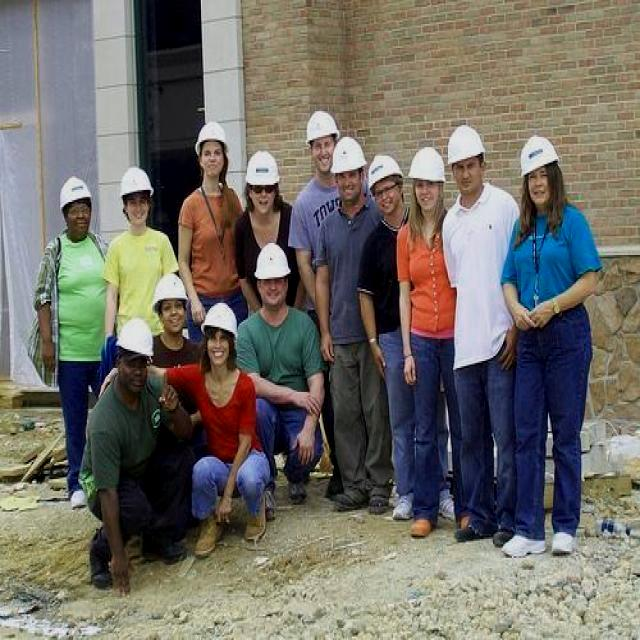face_nomask: (451, 158, 482, 192), (332, 168, 363, 199), (412, 176, 441, 208), (123, 357, 151, 389), (526, 167, 552, 200), (64, 205, 94, 232), (205, 334, 232, 361), (260, 276, 288, 302), (311, 138, 335, 168), (161, 302, 185, 331), (373, 184, 398, 211), (250, 182, 274, 207), (200, 148, 223, 172), (125, 197, 149, 220)
glasses: (370, 183, 398, 200), (250, 182, 276, 196)
hand_noglove: (104, 550, 140, 597), (368, 342, 392, 380), (292, 430, 318, 464), (523, 303, 555, 328), (156, 383, 180, 414), (512, 301, 535, 332), (297, 390, 324, 416), (400, 354, 420, 387), (317, 334, 339, 363), (39, 344, 60, 372), (214, 498, 232, 522)
head_helmet: (515, 133, 561, 180), (445, 123, 486, 167), (116, 318, 157, 358), (199, 301, 242, 339), (328, 135, 368, 175), (407, 144, 446, 183), (244, 149, 283, 187), (253, 243, 291, 282), (365, 153, 406, 189), (304, 107, 341, 143), (150, 270, 188, 305), (57, 176, 94, 209), (117, 165, 154, 197), (193, 121, 228, 154)
person: (501, 132, 600, 566), (438, 124, 524, 554), (316, 131, 405, 521), (397, 143, 475, 545), (34, 176, 124, 514), (352, 149, 432, 523), (78, 327, 192, 583), (235, 248, 328, 511), (183, 300, 276, 556), (178, 120, 256, 330), (98, 166, 184, 338)
shoes: (188, 506, 228, 560), (85, 528, 116, 592), (498, 524, 549, 560), (137, 534, 190, 566), (240, 489, 268, 543), (454, 516, 499, 546), (548, 522, 582, 558), (434, 486, 468, 522), (331, 486, 369, 514), (282, 470, 311, 504), (408, 512, 440, 542), (362, 486, 392, 516), (392, 488, 418, 522), (65, 480, 91, 510)
